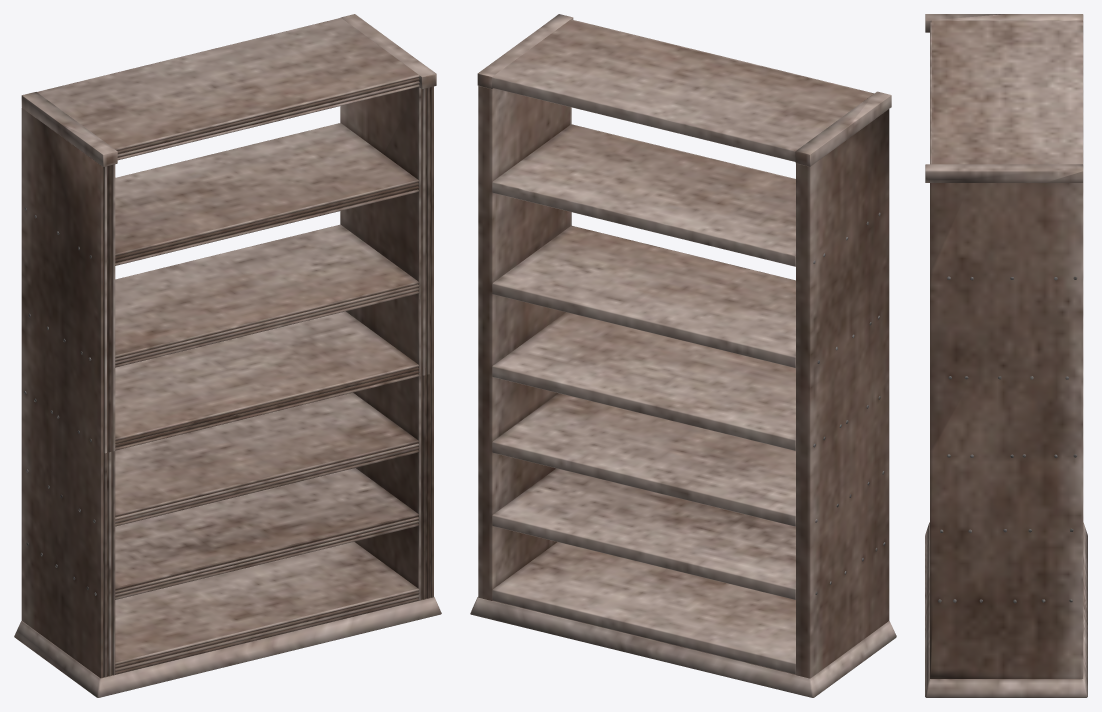
File: wooden_bookshelf_worn.269e79ca80.glb
3 views of the same model, side by side, from view 1: azimuth 30°, elevation 25°; view 2: azimuth 150°, elevation 25°; view 3: azimuth 270°, elevation 25° (orthographic). The views are drawn at different scales.
Visible parts, largest first — view 1: wooden_bookshelf_worn; view 2: wooden_bookshelf_worn; view 3: wooden_bookshelf_worn.
Part boxes in pixels (x1,y1,x2,y2): wooden_bookshelf_worn: (14,14,441,697); wooden_bookshelf_worn: (470,14,896,697); wooden_bookshelf_worn: (925,14,1087,697).
Size of the model in its own units: 1.37 by 2.06 by 0.5814.
Materials: 1 (1 with a texture image).
